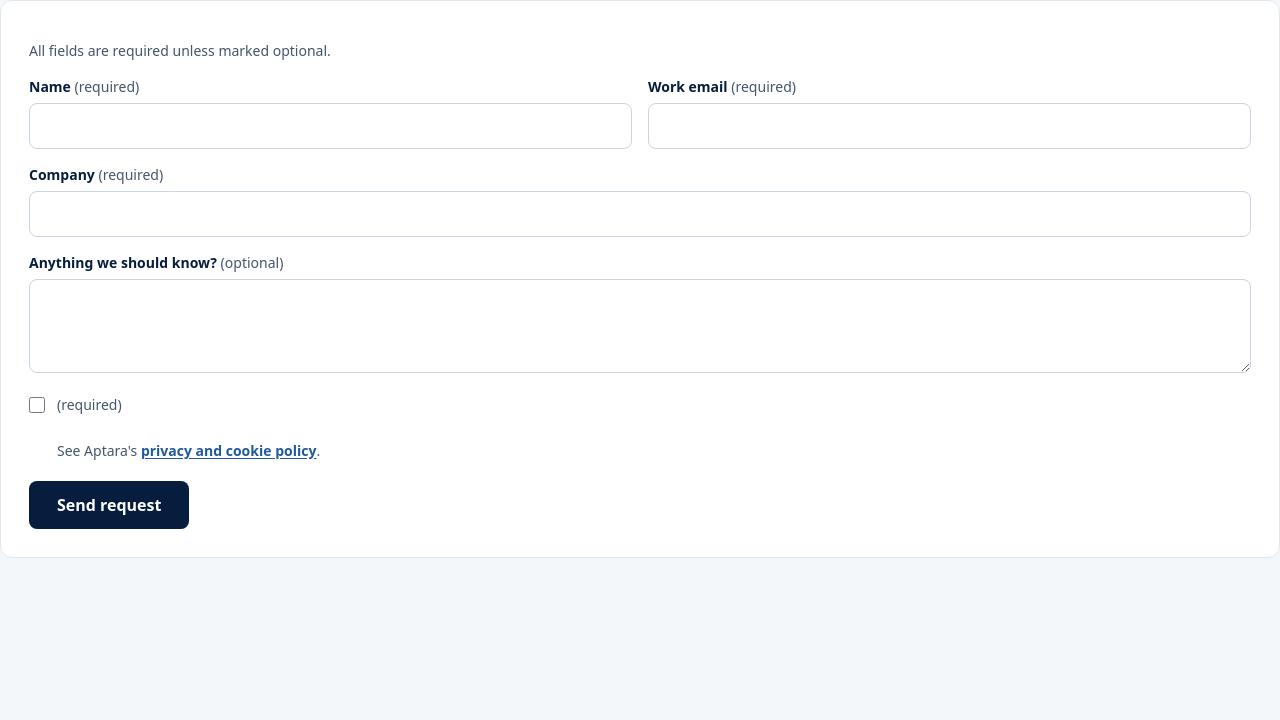
it: LeadForm › rejects a malformed email
Type "Priya Shah" into the field labelled "Name (required)" at (330, 126), box [29,103,632,149]
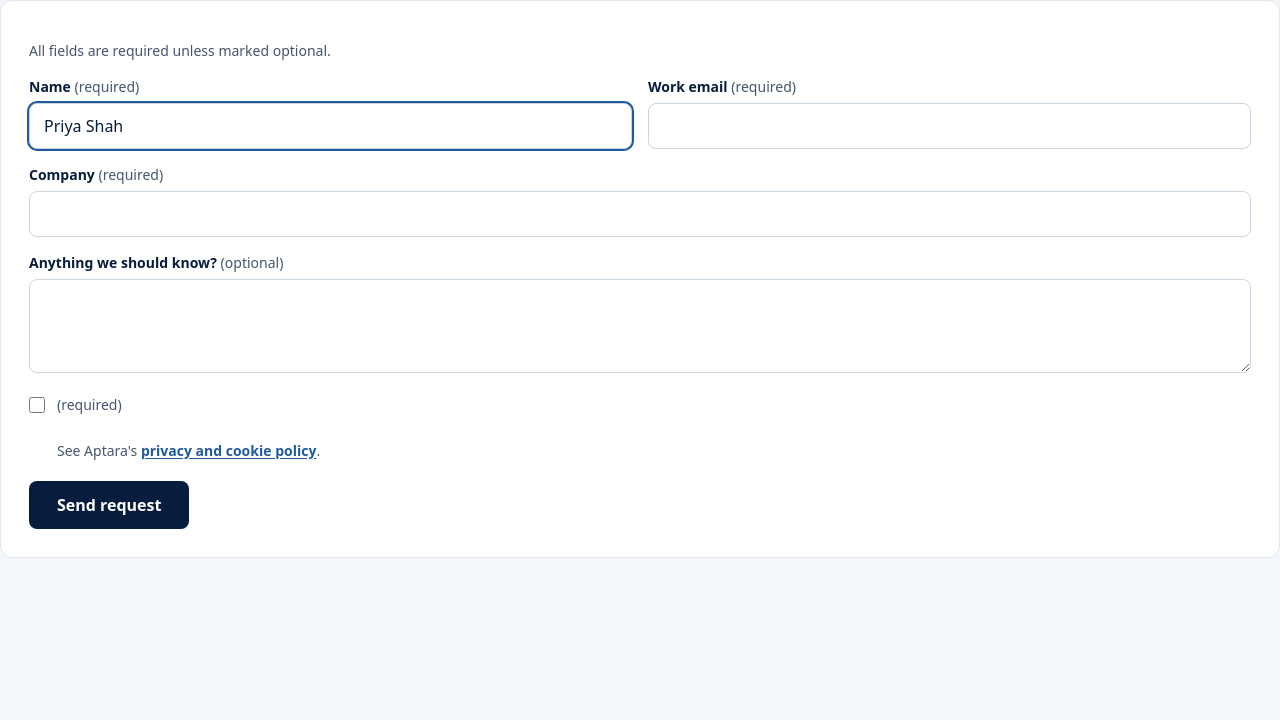
Type "priya@example.com" into the field labelled "Work email (required)" at (950, 126), box [648,103,1251,149]
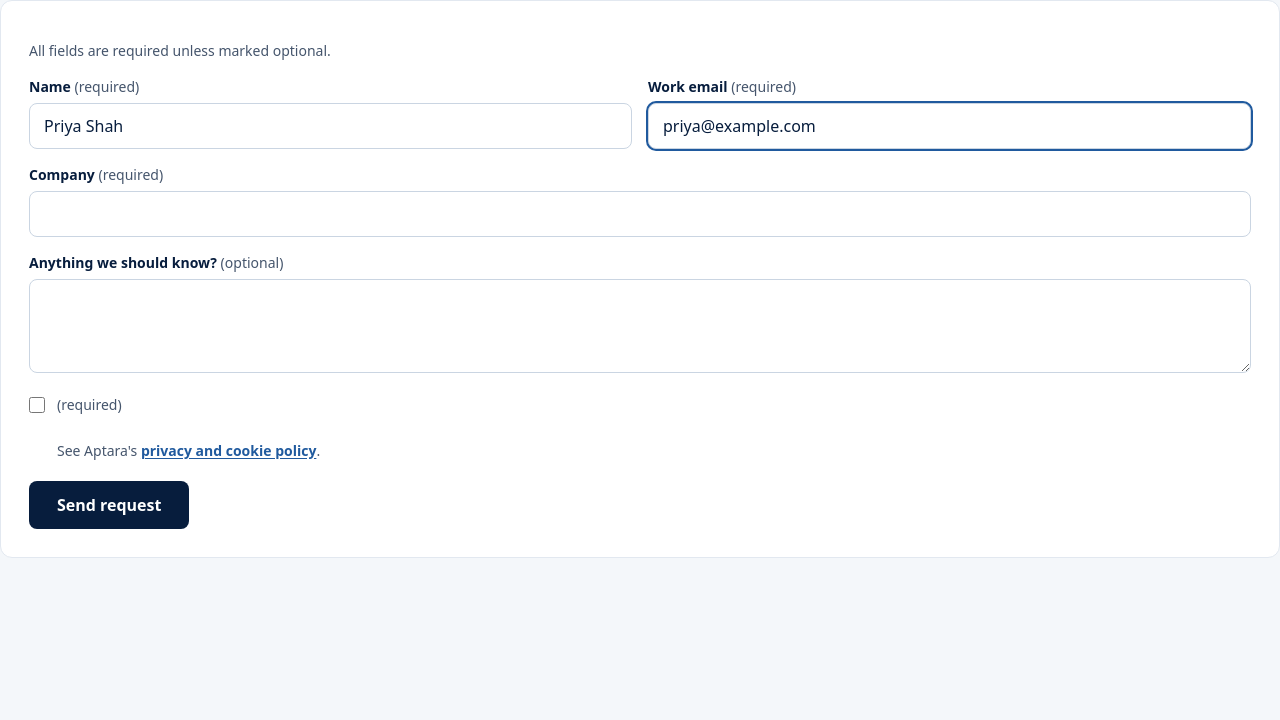
Type "Example Co" into the field labelled "Company (required)" at (640, 214), box [29,191,1251,237]
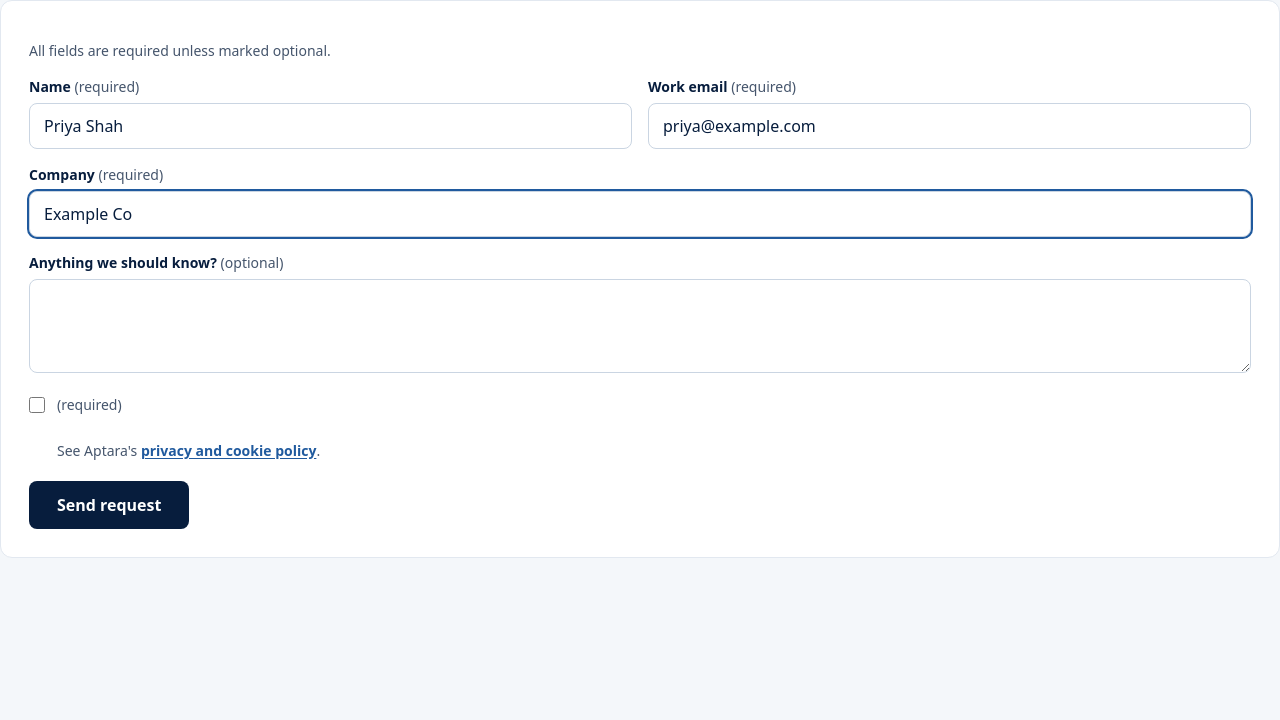
Click the checkbox at (37, 405), box [29,397,45,413]
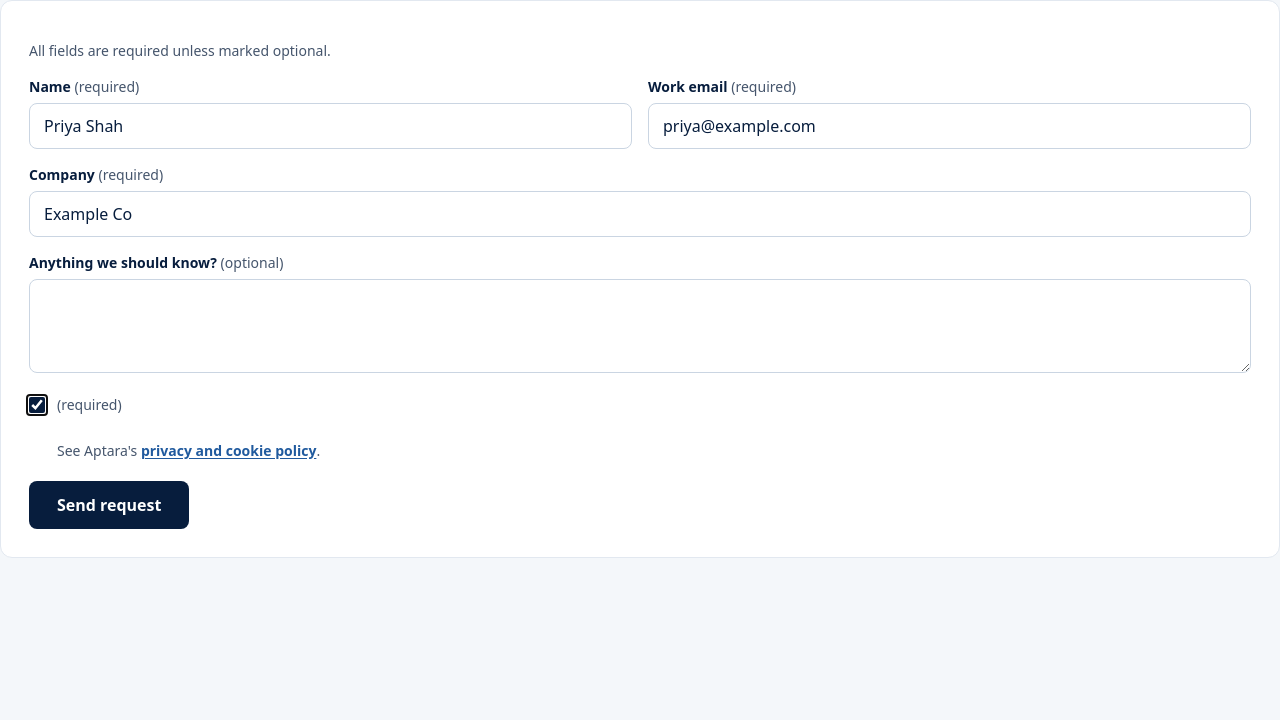
Replace the text in the field labelled "Work email (required)" with "not-an-email" at (950, 126), box [648,103,1251,149]
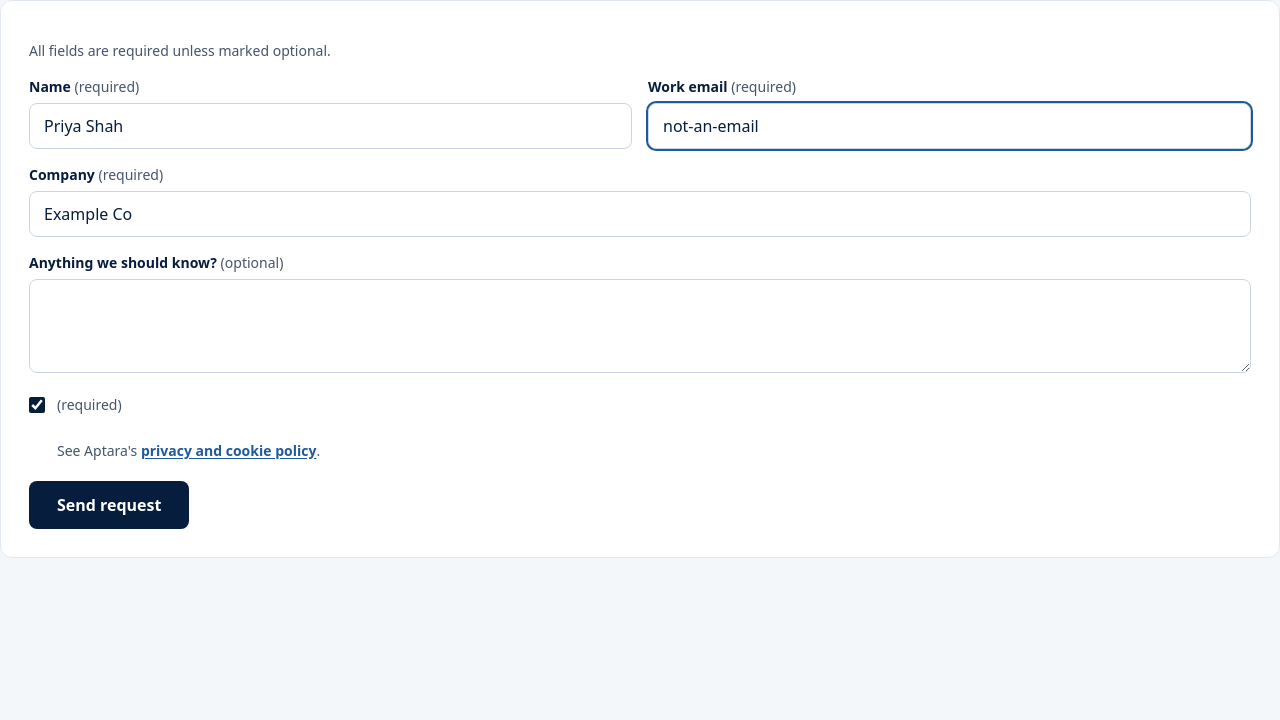
Click the button "Send request" at (109, 505), box [29,481,190,529]
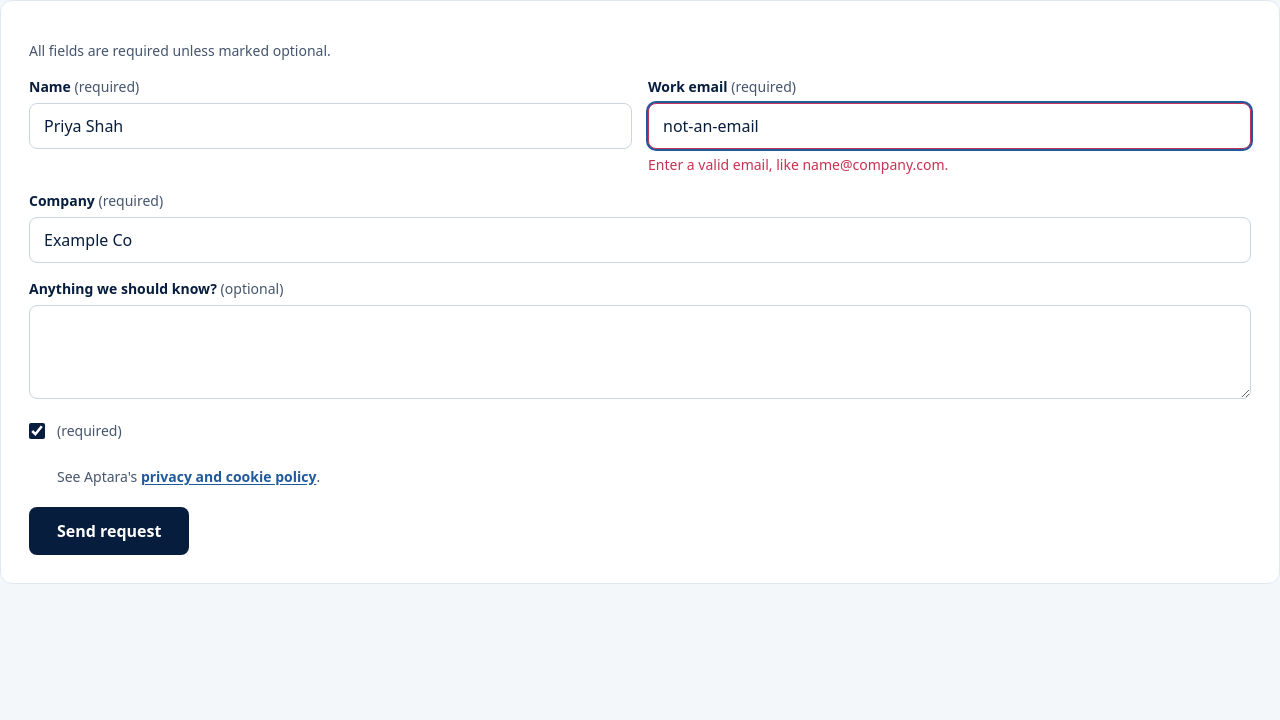
Result: the text "Enter a valid email, like name@company.com." is shown at [648,155,948,174]
